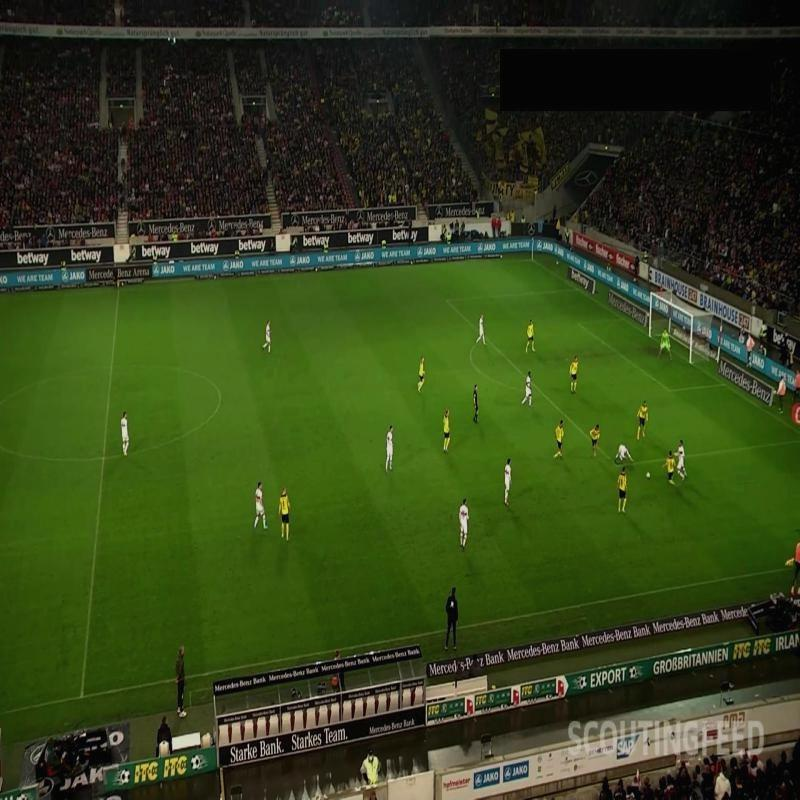1: (525, 252, 539, 266)
10: (479, 330, 493, 344)
11: (530, 382, 544, 396)
12: (610, 457, 624, 471)
13: (112, 280, 126, 298)
14: (104, 360, 120, 374)
15: (94, 448, 112, 468)
16: (74, 687, 91, 706)
2: (570, 280, 584, 294)
3: (615, 310, 630, 324)
4: (716, 376, 731, 390)
7: (571, 316, 585, 330)
8: (664, 382, 678, 395)
9: (440, 292, 454, 306)
c: (214, 390, 228, 404)
